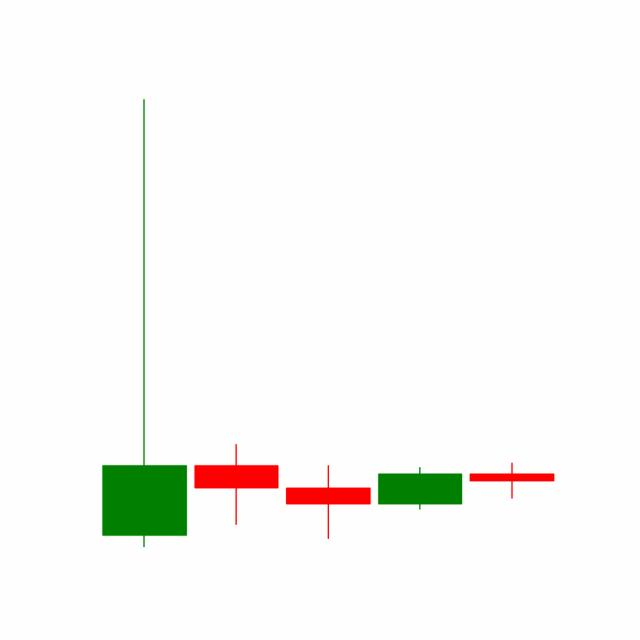Hanging Man: (464, 462, 558, 499)
